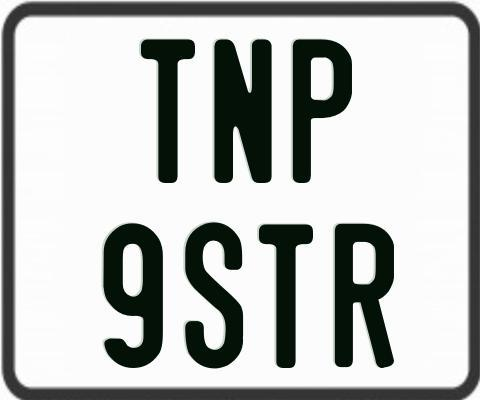9: (100, 223, 165, 370)
N: (211, 36, 269, 183)
P: (291, 37, 353, 184)
R: (334, 224, 394, 374)
S: (183, 220, 247, 367)
T: (256, 222, 314, 369), (140, 39, 194, 187)
